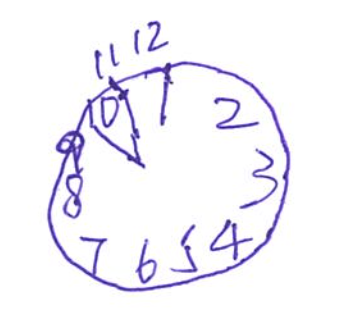1: (157, 77, 172, 127)
10: (84, 97, 121, 128)
11: (89, 43, 120, 78)
12: (130, 20, 171, 55)
2: (214, 96, 260, 132)
3: (238, 147, 278, 209)
4: (209, 218, 254, 260)
5: (170, 223, 199, 275)
6: (134, 237, 158, 285)
7: (79, 234, 108, 278)
8: (62, 173, 85, 220)
9: (55, 128, 87, 173)
contour: (46, 60, 293, 296)
